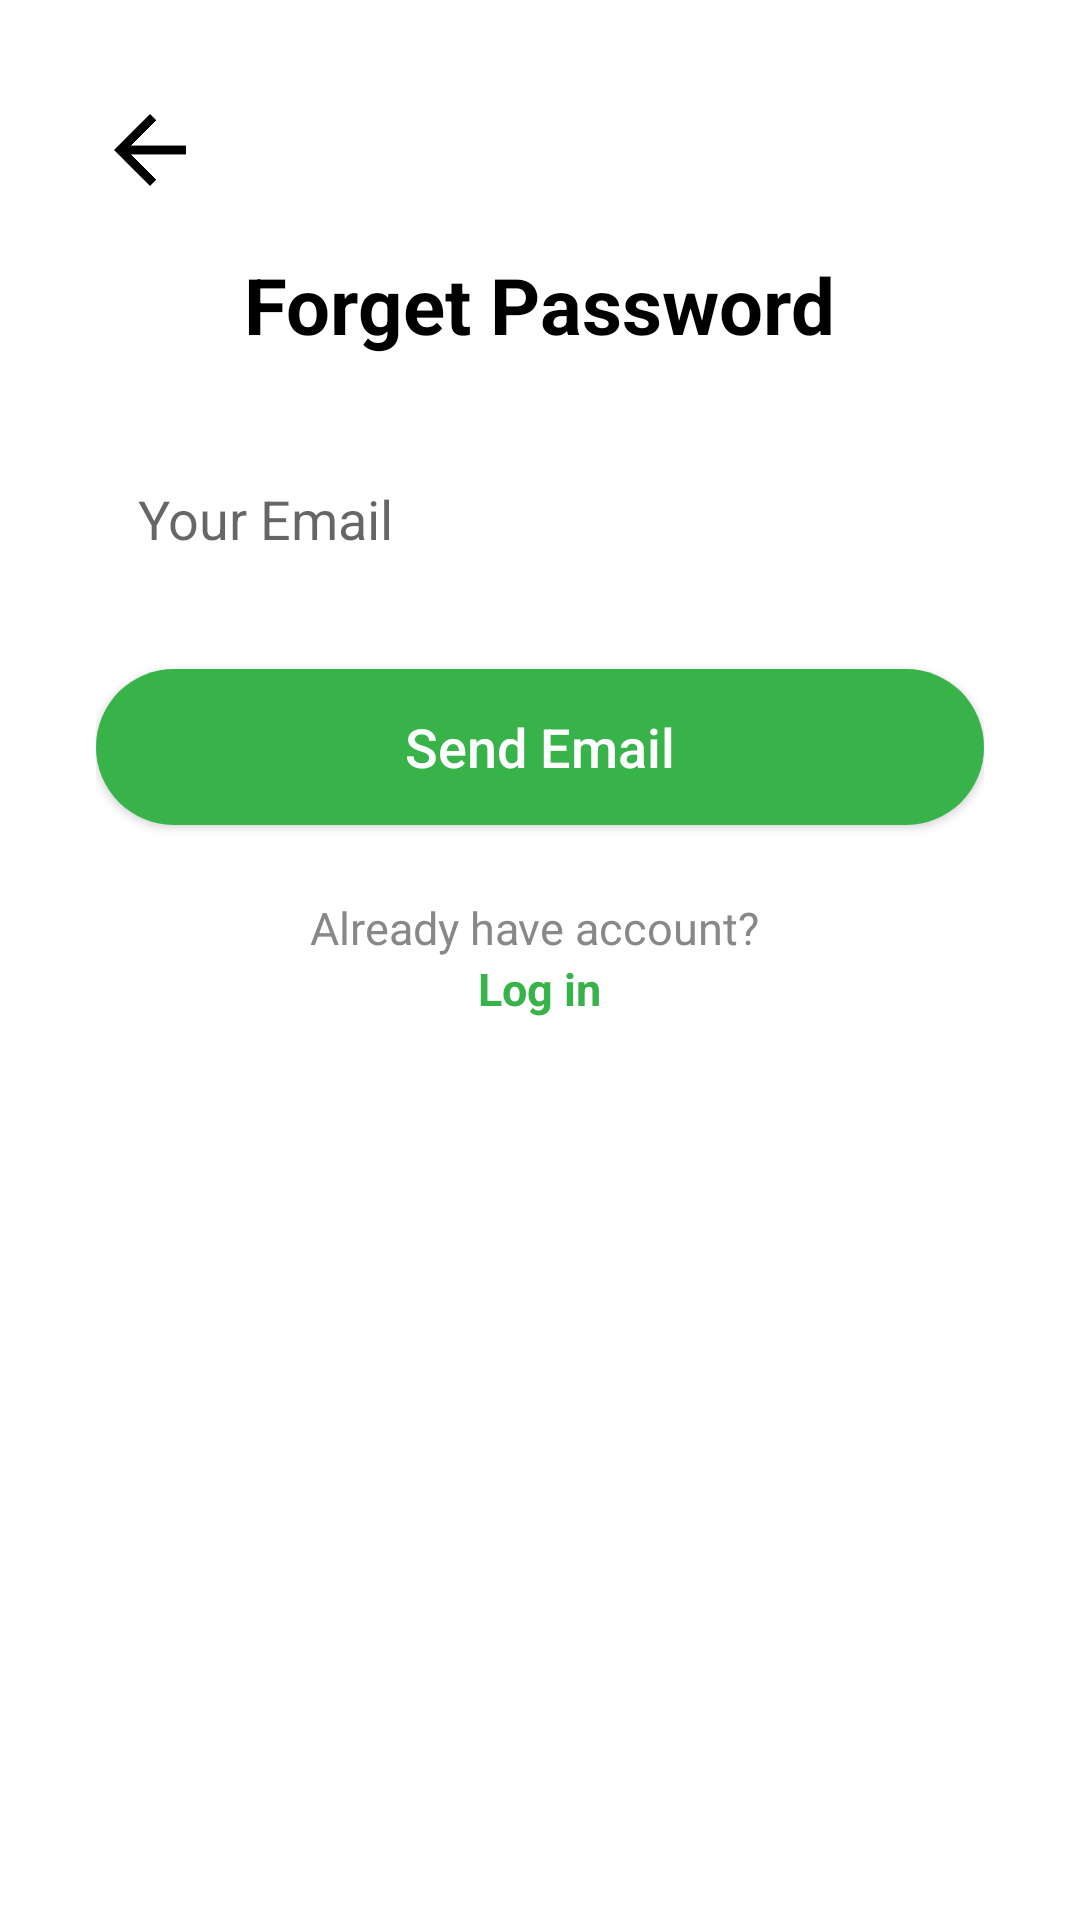

Icons on this 1080 × 1920 Android screen, each with the point to tap as (x=x, y=y):
back: (x=150, y=150)
